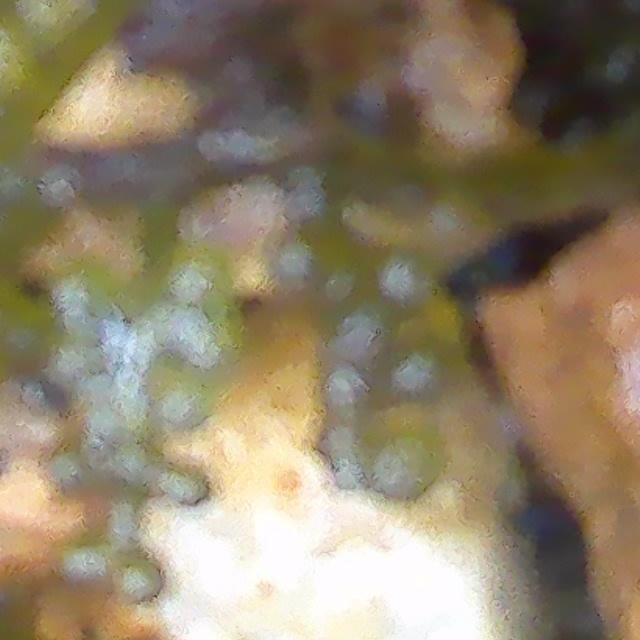SeaGrape: (143, 360, 222, 439)
